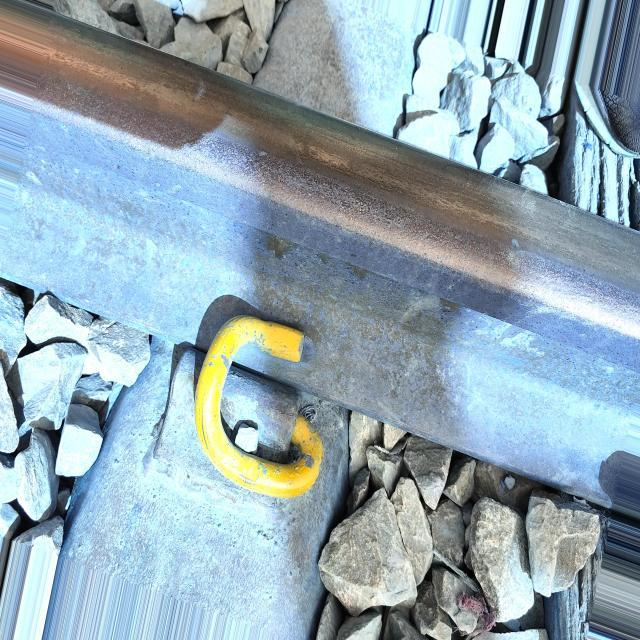Good Fasteners: (152, 316, 350, 638)
